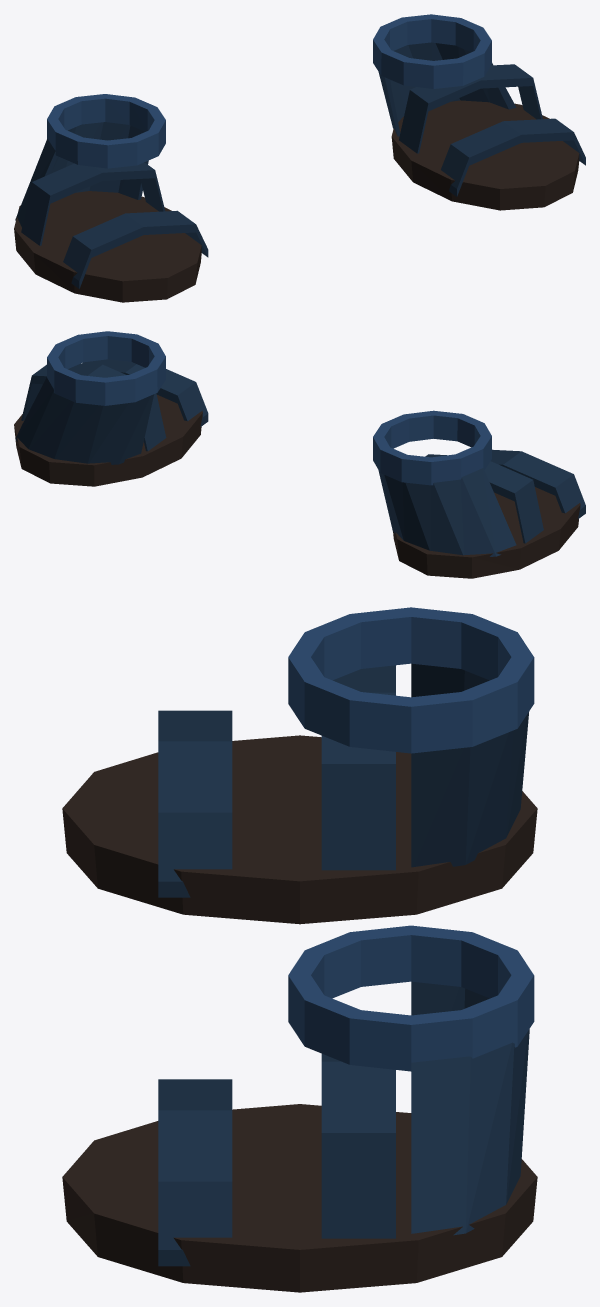
Rendered from cloth_feet-female.glb.
The picture shows the model from 3 angles, top to bottom: view 1: azimuth 30°, elevation 25°; view 2: azimuth 150°, elevation 25°; view 3: azimuth 270°, elevation 25°; orthographic projection. The views are drawn at different scales.
Visible parts, largest first — view 1: Sandal leather sole -1, Sandal leather sole 1, Sandal ankle strap 1, Sandal ankle strap -1, Sandal instep strap -1, Sandal toe strap -1, Sandal toe strap 1, Sandal instep strap 1, Sandal heel sling -1, Sandal heel sling 1; view 2: Sandal heel sling -1, Sandal heel sling 1, Sandal ankle strap 1, Sandal ankle strap -1, Sandal leather sole -1, Sandal leather sole 1, Sandal toe strap -1, Sandal instep strap -1, Sandal toe strap 1, Sandal instep strap 1; view 3: Sandal leather sole 1, Sandal leather sole -1, Sandal ankle strap -1, Sandal ankle strap 1, Sandal heel sling 1, Sandal heel sling -1, Sandal instep strap 1, Sandal toe strap -1, Sandal toe strap 1, Sandal instep strap -1.
Boxes of the visible parts, x1=… form: Sandal leather sole -1: x1=14, y1=191, x2=201, y2=302; Sandal leather sole 1: x1=391, y1=100, x2=579, y2=210; Sandal ankle strap 1: x1=373, y1=14, x2=491, y2=88; Sandal ankle strap -1: x1=47, y1=94, x2=165, y2=168; Sandal instep strap -1: x1=21, y1=162, x2=165, y2=245; Sandal toe strap -1: x1=63, y1=210, x2=208, y2=288; Sandal toe strap 1: x1=441, y1=118, x2=585, y2=196; Sandal instep strap 1: x1=399, y1=64, x2=542, y2=153; Sandal heel sling -1: x1=15, y1=122, x2=148, y2=227; Sandal heel sling 1: x1=378, y1=42, x2=516, y2=136; Sandal heel sling -1: x1=378, y1=468, x2=516, y2=556; Sandal heel sling 1: x1=15, y1=377, x2=153, y2=464; Sandal ankle strap 1: x1=47, y1=331, x2=165, y2=405; Sandal ankle strap -1: x1=373, y1=410, x2=491, y2=485; Sandal leather sole -1: x1=393, y1=487, x2=580, y2=578; Sandal leather sole 1: x1=14, y1=395, x2=202, y2=486; Sandal toe strap -1: x1=491, y1=449, x2=585, y2=518; Sandal instep strap -1: x1=425, y1=454, x2=543, y2=543; Sandal toe strap 1: x1=82, y1=359, x2=208, y2=426; Sandal instep strap 1: x1=21, y1=363, x2=166, y2=451; Sandal leather sole 1: x1=62, y1=1104, x2=537, y2=1292; Sandal leather sole -1: x1=62, y1=735, x2=537, y2=924; Sandal ankle strap -1: x1=288, y1=607, x2=534, y2=753; Sandal ankle strap 1: x1=288, y1=925, x2=534, y2=1071; Sandal heel sling 1: x1=411, y1=981, x2=529, y2=1235; Sandal heel sling -1: x1=411, y1=663, x2=529, y2=867; Sandal instep strap 1: x1=321, y1=1054, x2=395, y2=1238; Sandal toe strap -1: x1=158, y1=710, x2=232, y2=897; Sandal toe strap 1: x1=158, y1=1079, x2=232, y2=1266; Sandal instep strap -1: x1=321, y1=665, x2=395, y2=870.
Size of the model in its own units: 2.62 by 0.5259 by 1.02.
